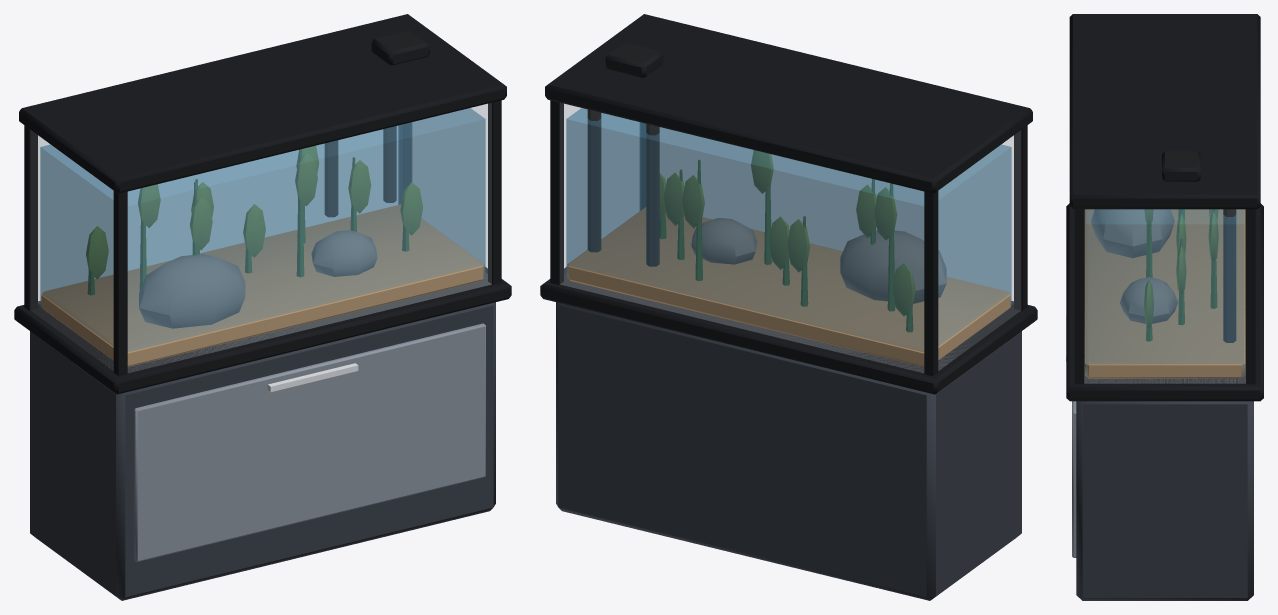
The model's file is specimen_aquarium_tank.glb.
The picture shows the model from 3 angles, left to right: view 1: azimuth 30°, elevation 25°; view 2: azimuth 150°, elevation 25°; view 3: azimuth 270°, elevation 25°; orthographic projection. The views are drawn at different scales.
Parts seen in each view (by area): view 1: specimen_aquarium_tank; view 2: specimen_aquarium_tank; view 3: specimen_aquarium_tank.
Boxes of the visible parts, left/top/right/bottom form: specimen_aquarium_tank: left=14, top=14, right=511, bottom=600; specimen_aquarium_tank: left=540, top=14, right=1037, bottom=600; specimen_aquarium_tank: left=1066, top=14, right=1263, bottom=600.
Size of the model in its own units: 1.36 by 1.45 by 0.611.
